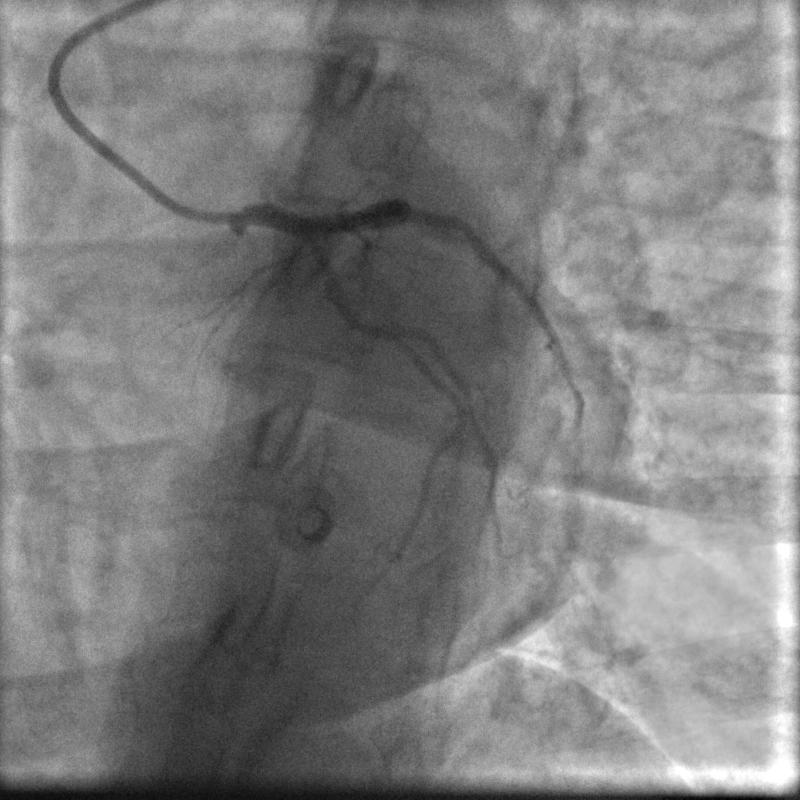Stenosis: (346, 307, 395, 346)
